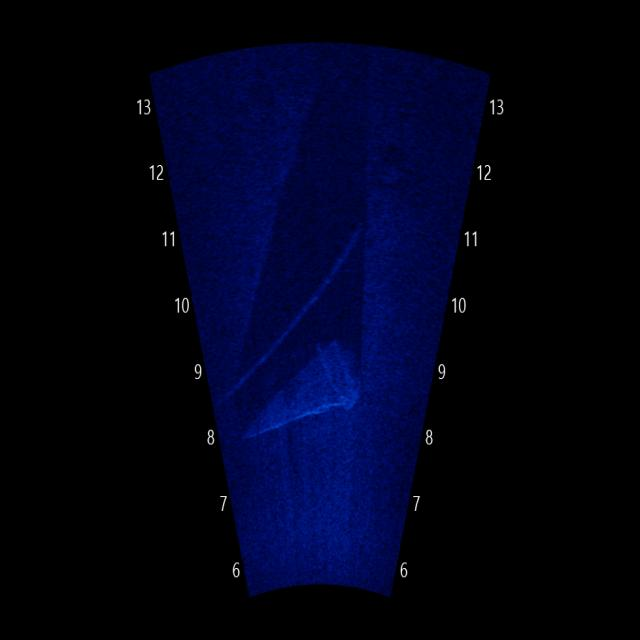circle: (367, 127, 422, 203), (228, 70, 286, 139)
triangle: (240, 320, 366, 452)
